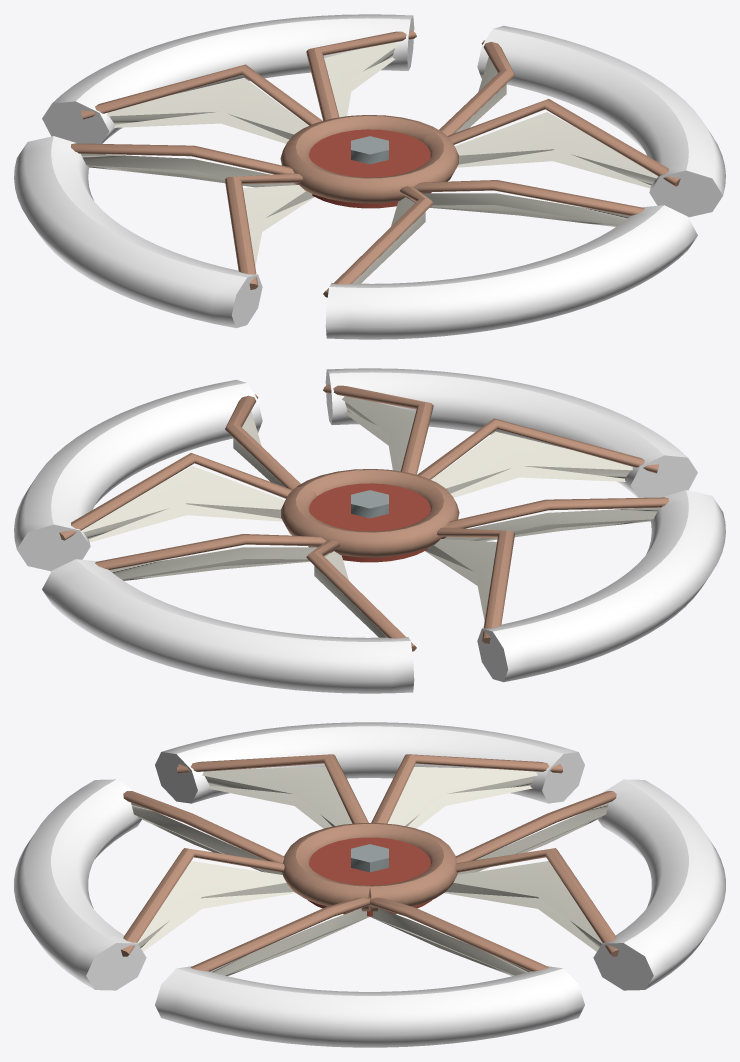
Rendered from Wheel_25_SSR_赤銅・濃紺.glb.
The picture shows the model from 3 angles, top to bottom: view 1: azimuth 30°, elevation 25°; view 2: azimuth 150°, elevation 25°; view 3: azimuth 270°, elevation 25°; orthographic projection.
Visible parts, largest first — view 1: Wheel_25_SSR; view 2: Wheel_25_SSR; view 3: Wheel_25_SSR.
Boxes of the visible parts, <box> form: Wheel_25_SSR: <box>14,14,725,339</box>; Wheel_25_SSR: <box>14,368,725,693</box>; Wheel_25_SSR: <box>14,722,725,1047</box>.
Size of the model in its own units: 0.3258 by 0.039 by 0.3258.
4 materials, 4 textured.
